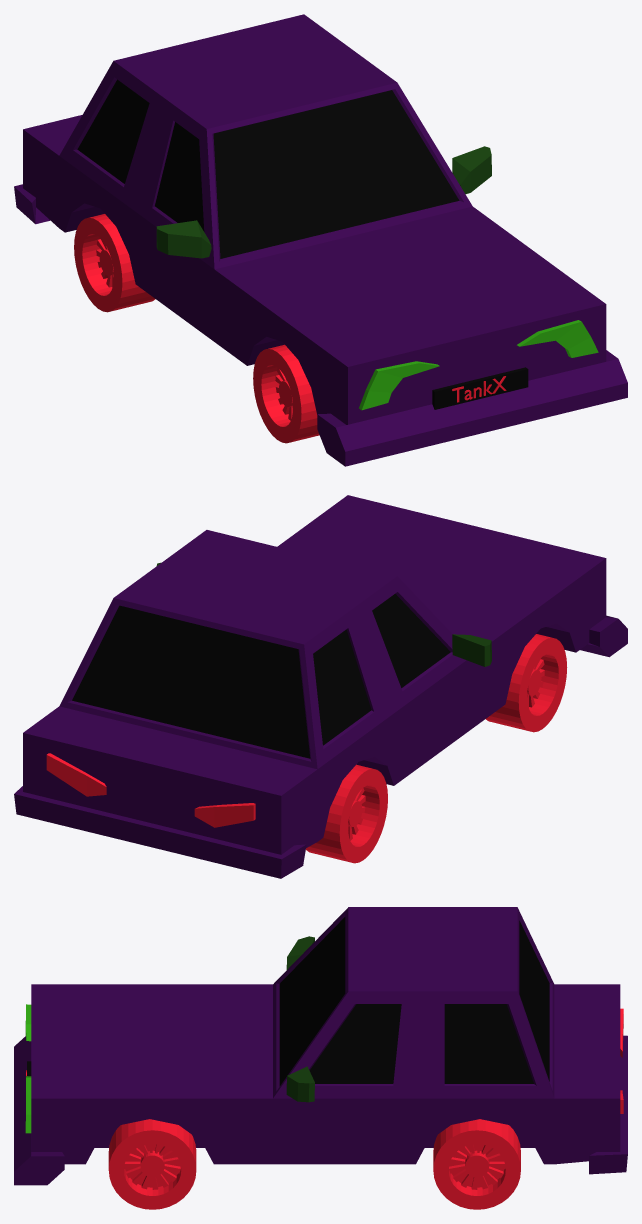
Rendered from Mohammed bil5.fbx.
3 views of the same model, one above another, from view 1: azimuth 30°, elevation 25°; view 2: azimuth 150°, elevation 25°; view 3: azimuth 270°, elevation 25° (orthographic). The views are drawn at different scales.
Visible parts, largest first — view 1: Cube, hjul, Cube.004, Cube.007, Cube.002; view 2: Cube, hjul, Cube.008, Cube.004; view 3: Cube, hjul, Cube.004, Cube.007.
Part boxes in pixels (x1,y1,x2,y2): Cube: (14,14,627,466); hjul: (74,214,319,443); Cube.004: (156,146,491,258); Cube.007: (359,320,598,410); Cube.002: (432,367,528,409); Cube: (14,495,627,878); hjul: (306,634,567,863); Cube.008: (46,753,255,827); Cube.004: (156,562,491,666); Cube: (14,907,627,1185); hjul: (108,1119,520,1209); Cube.004: (286,936,314,1102); Cube.007: (25,1004,31,1133).
Bounding box in the file's own units: 304 × 195 × 537.
